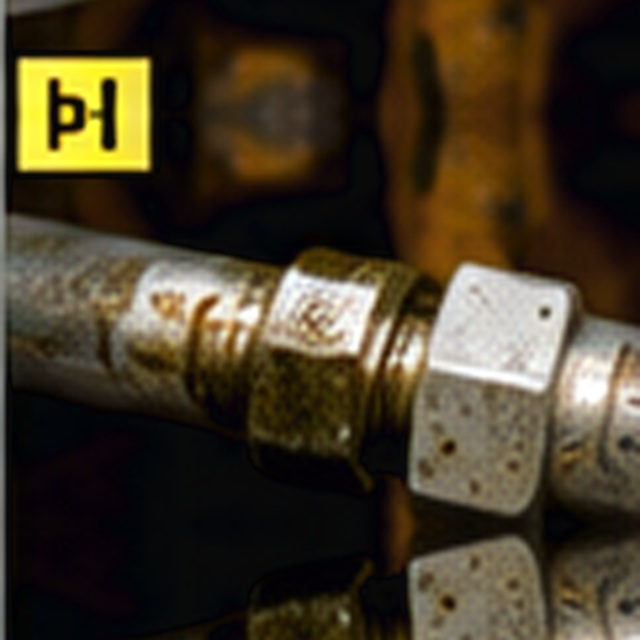hydraulic_oil_leak: (189, 186, 439, 482)
